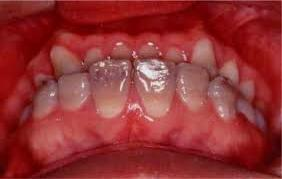Discoloration: (133, 58, 184, 118), (87, 56, 135, 117), (175, 62, 215, 112), (54, 67, 92, 113), (30, 79, 65, 122), (208, 78, 244, 119)
